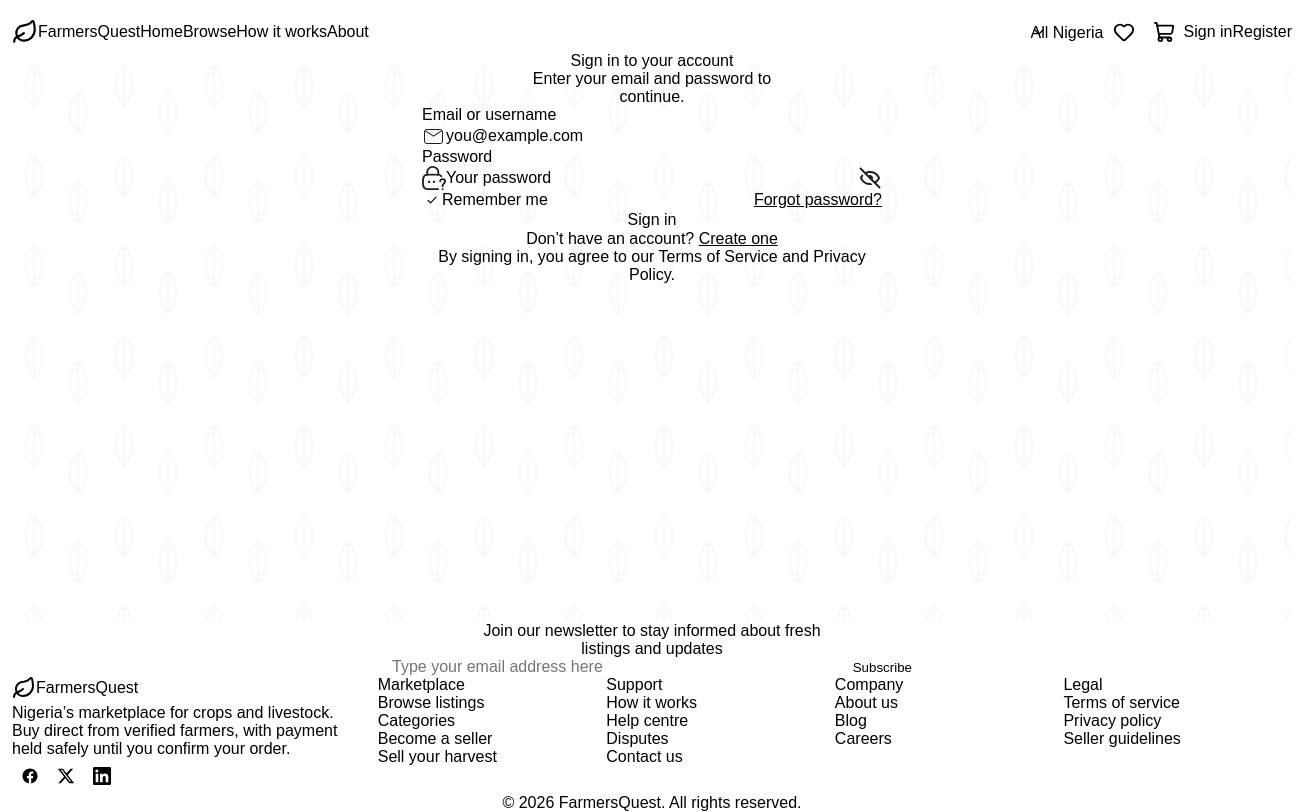
Test: sign out › clears the session and returns to sign in
Step 1. Type "ada" into the field labelled "Email or username" → (664, 136), box [446,127,882,145]
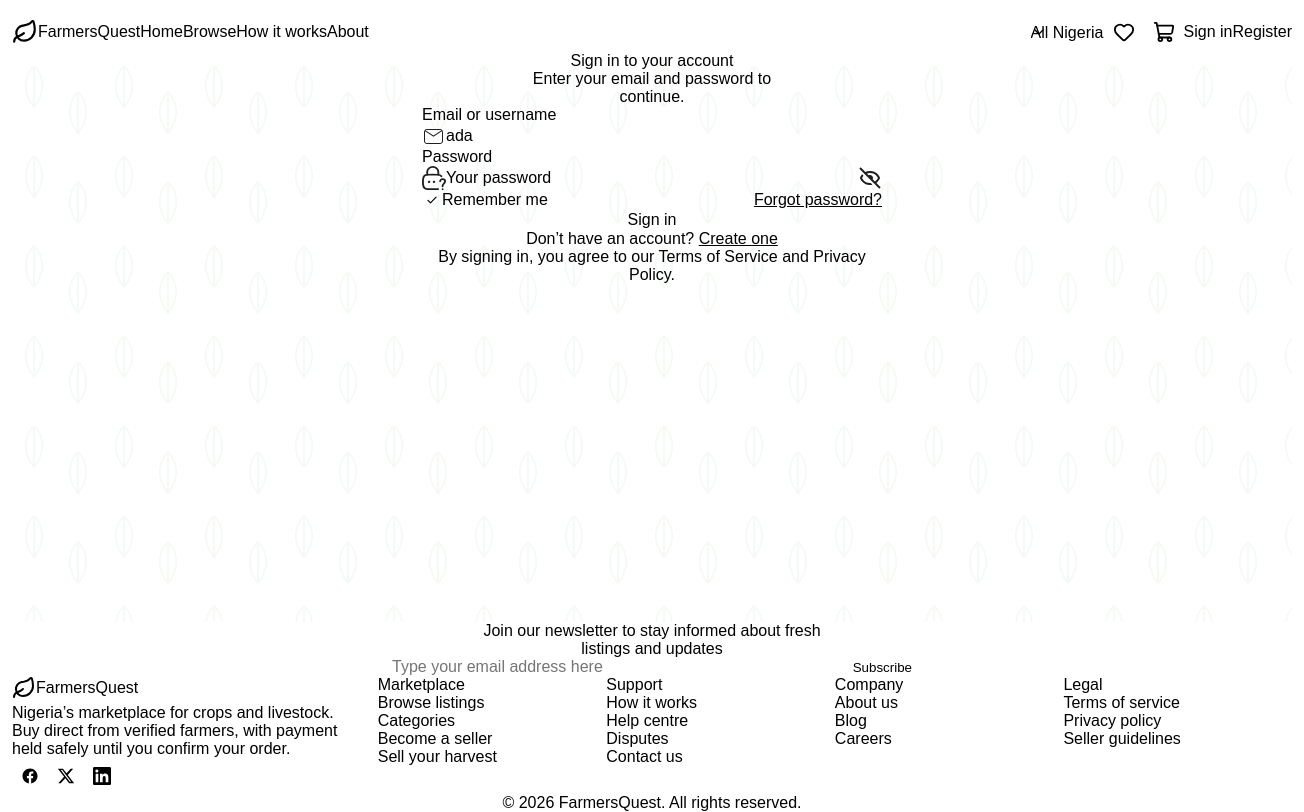
Step 2. Type "password123" into the password field labelled "Password" → (652, 178), box [446,169,858,187]
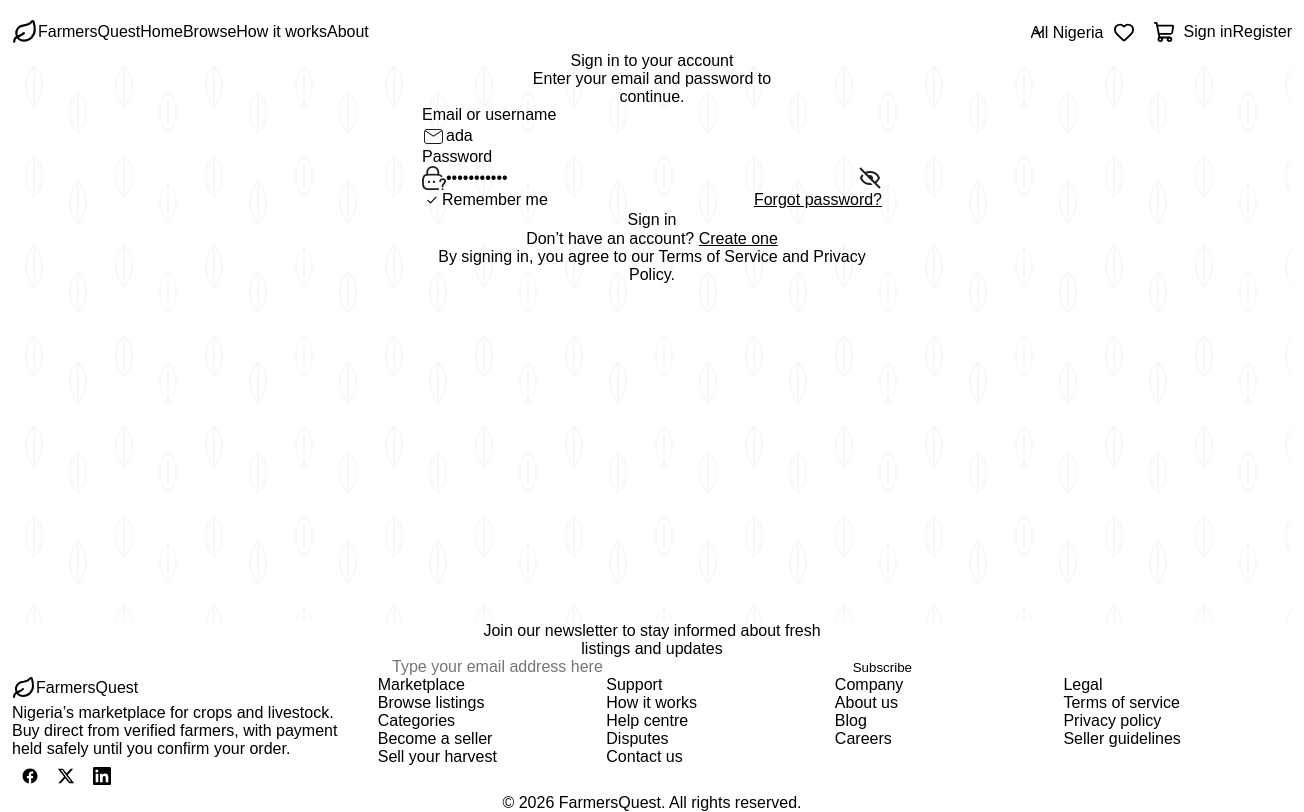
Step 3. Click the button "Sign in" → (652, 220), box [422,210,882,230]
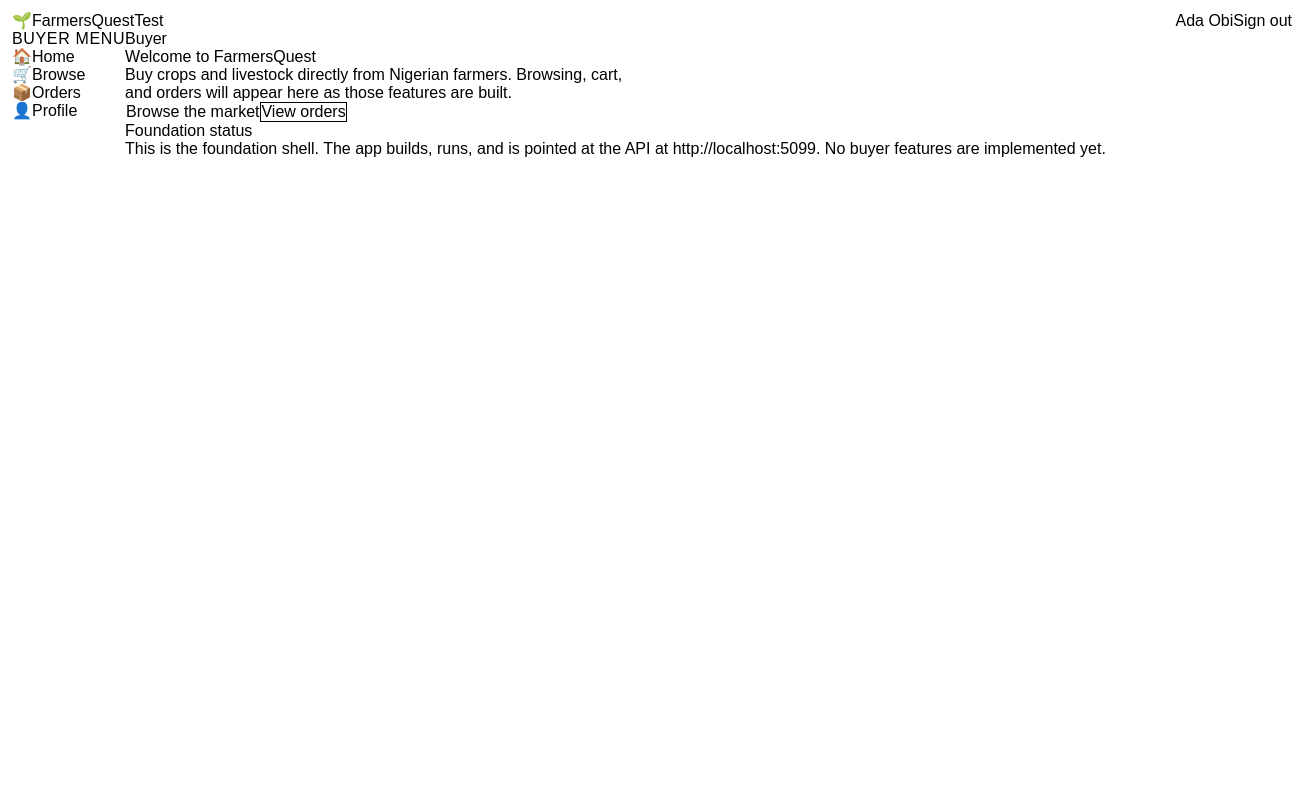
Expected: the heading "Welcome to FarmersQuest" is shown, [125,48,316,66]
Step 4. Click the button "Sign out" → (1263, 21), box [1233,12,1292,30]
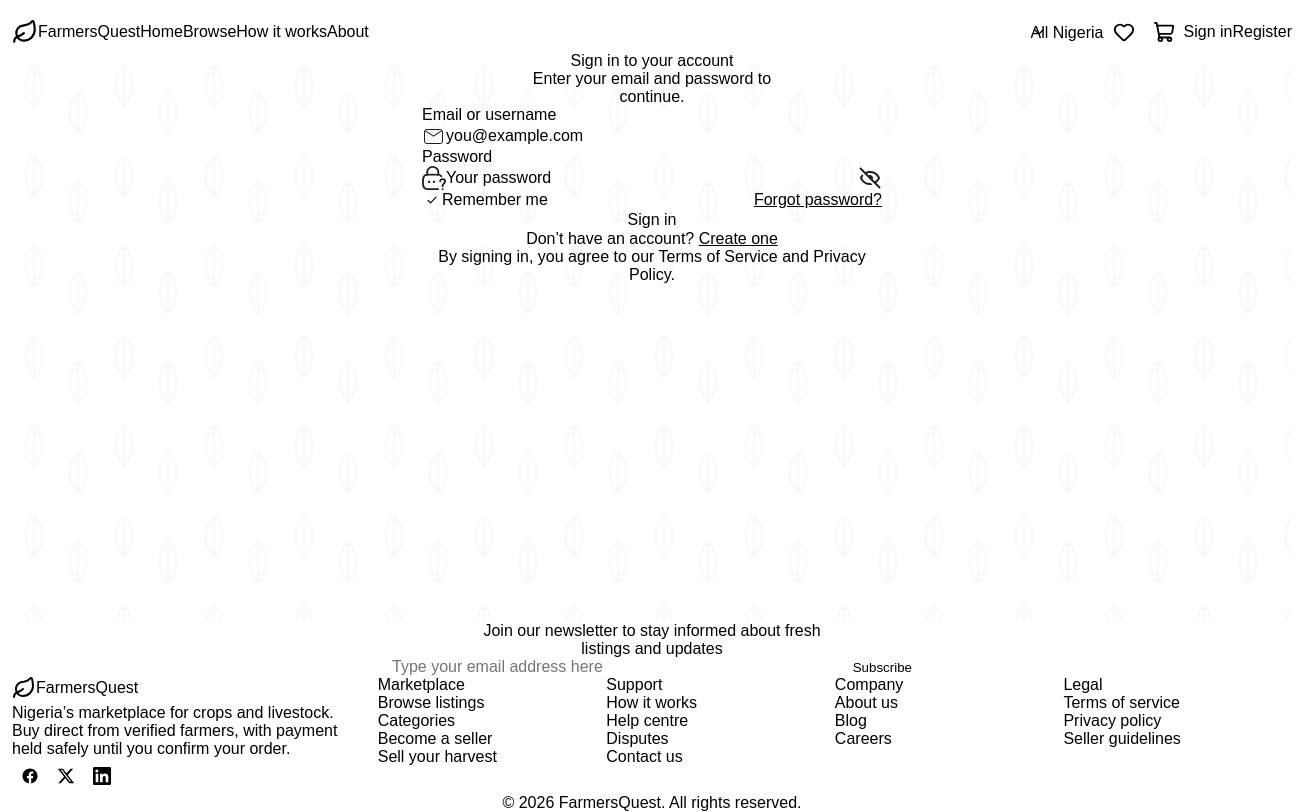
Expected: the heading "Sign in to your account" is shown, [571,52,733,70]
